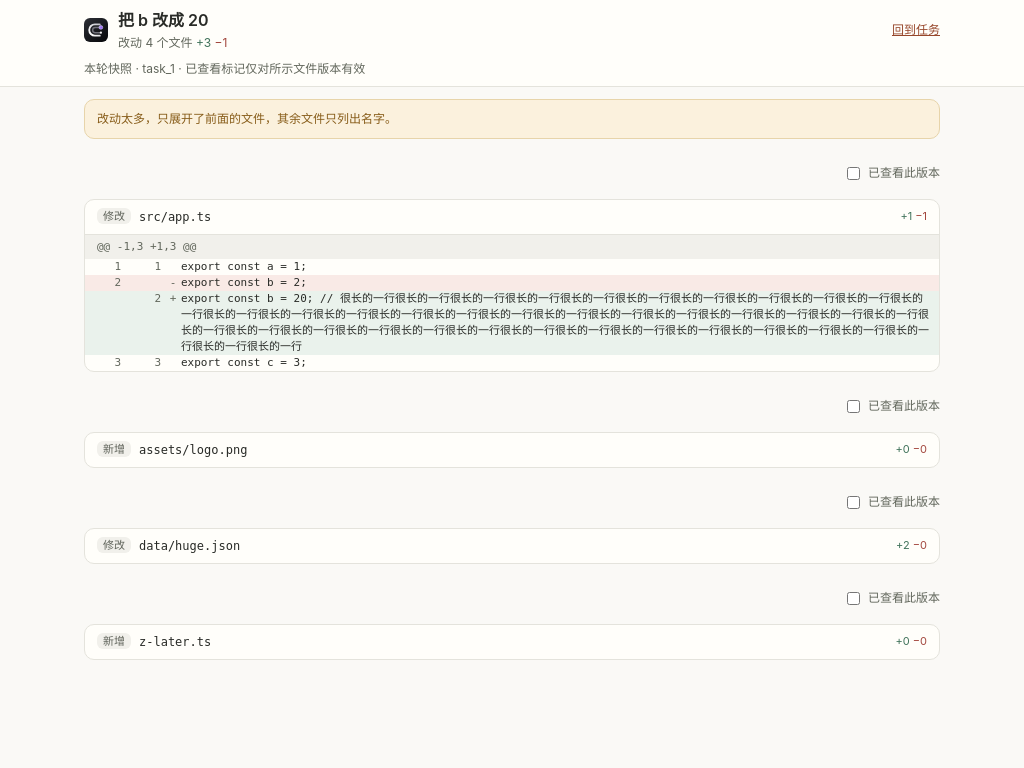
Test: TurnDiffPage › 登录用户提交后说明已发给 Agent，并能回到任务
Expected: the link "回到任务" is shown, [892,21,940,39]
Click the button with aria-label "评论 src/app.ts 第 3 行".
click(244, 362)  # box [85,355,939,371]
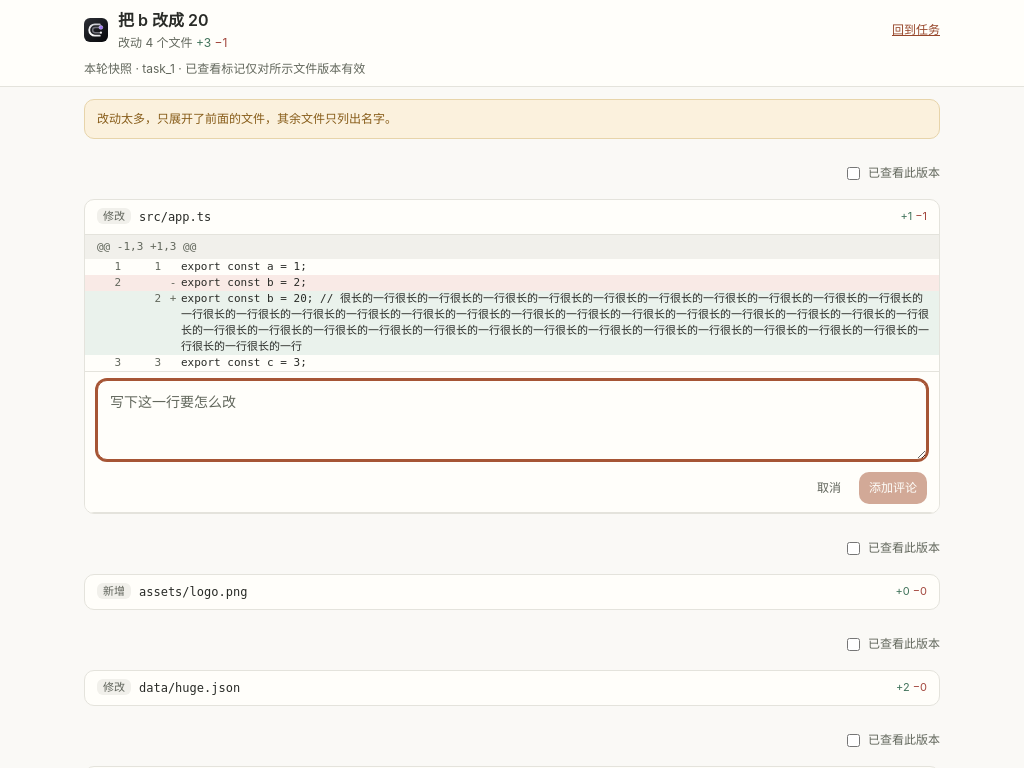
Type "加个测试" into the text box named "src/app.ts 第 3 行的评论".
click(512, 420); type("加个测试")  # box [97,380,927,460]
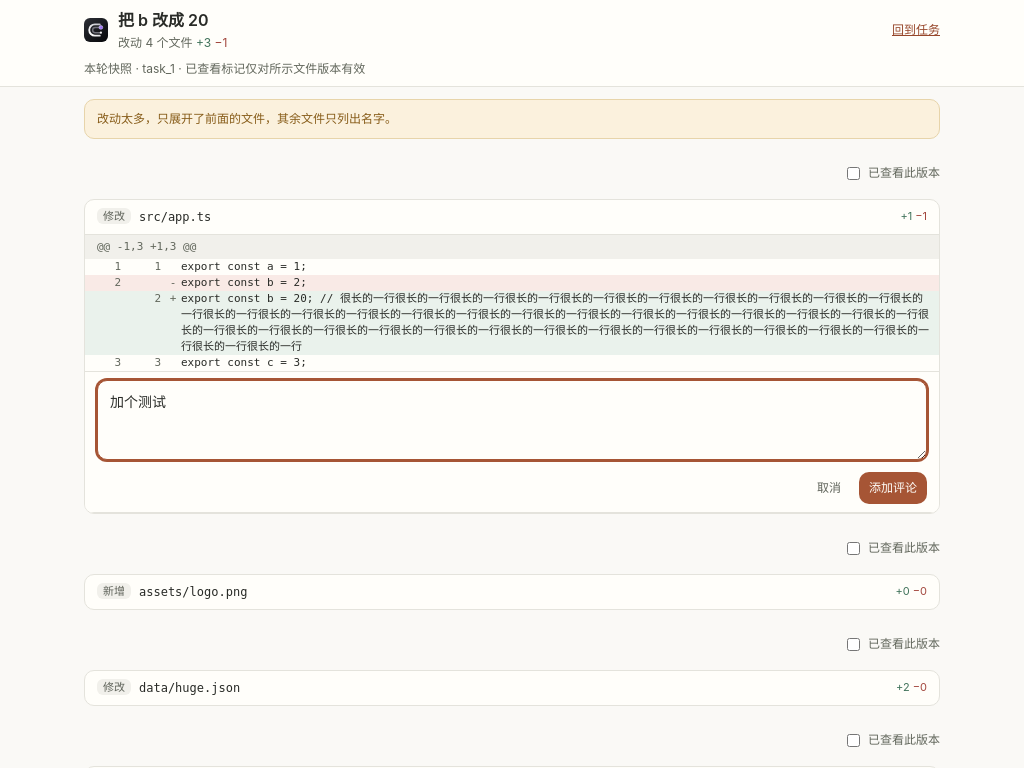
Click the button "添加评论".
click(893, 488)  # box [859,472,927,504]
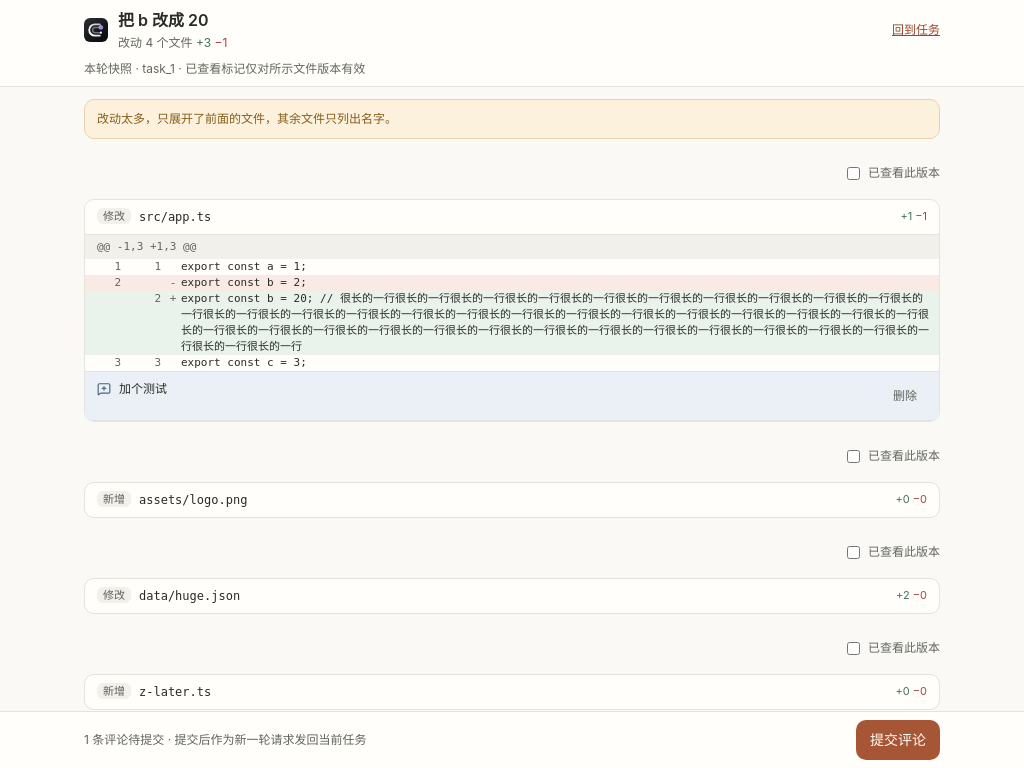
Expected: the text "1 条评论待提交 · 提交后作为新一轮请求发回当前任务" is shown, [84,732,366,747]
Click the button "提交评论".
click(898, 740)  # box [856,720,940,760]
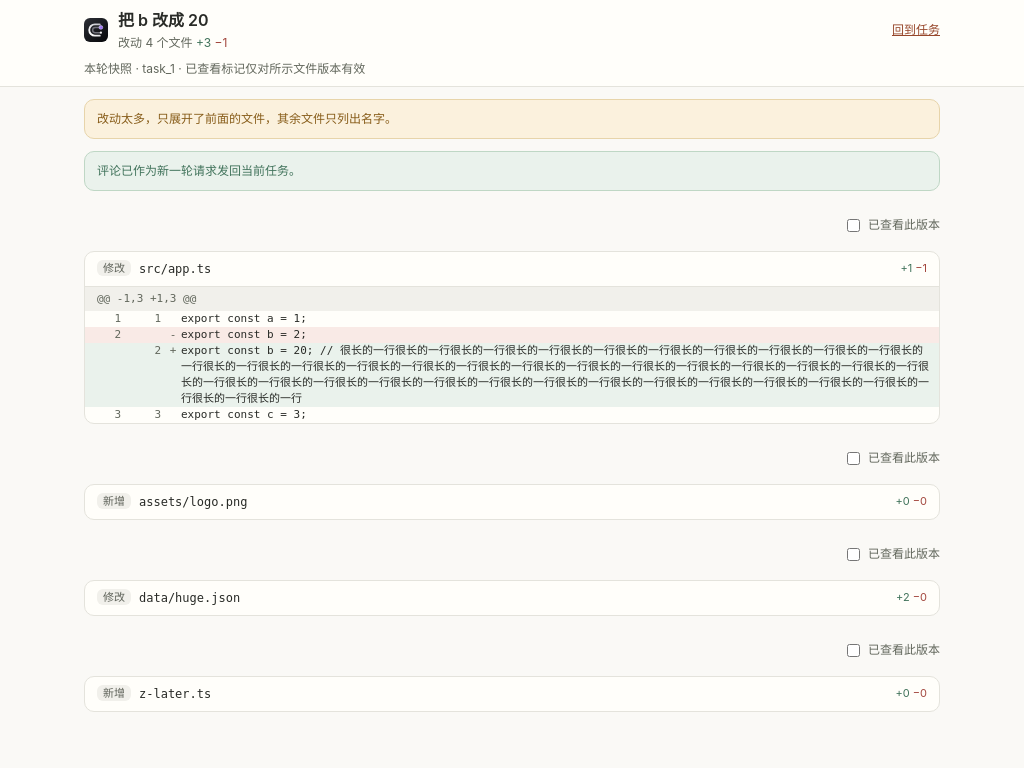
Expected: the text "评论已作为新一轮请求发回当前任务。" is shown, [97,163,301,178]
